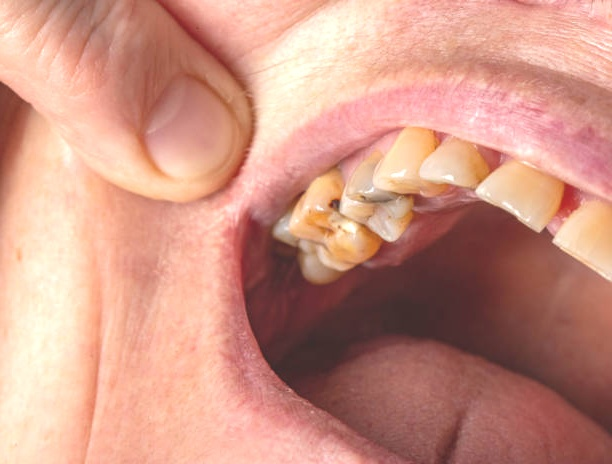Caries: (343, 186, 401, 211), (321, 194, 346, 220)
